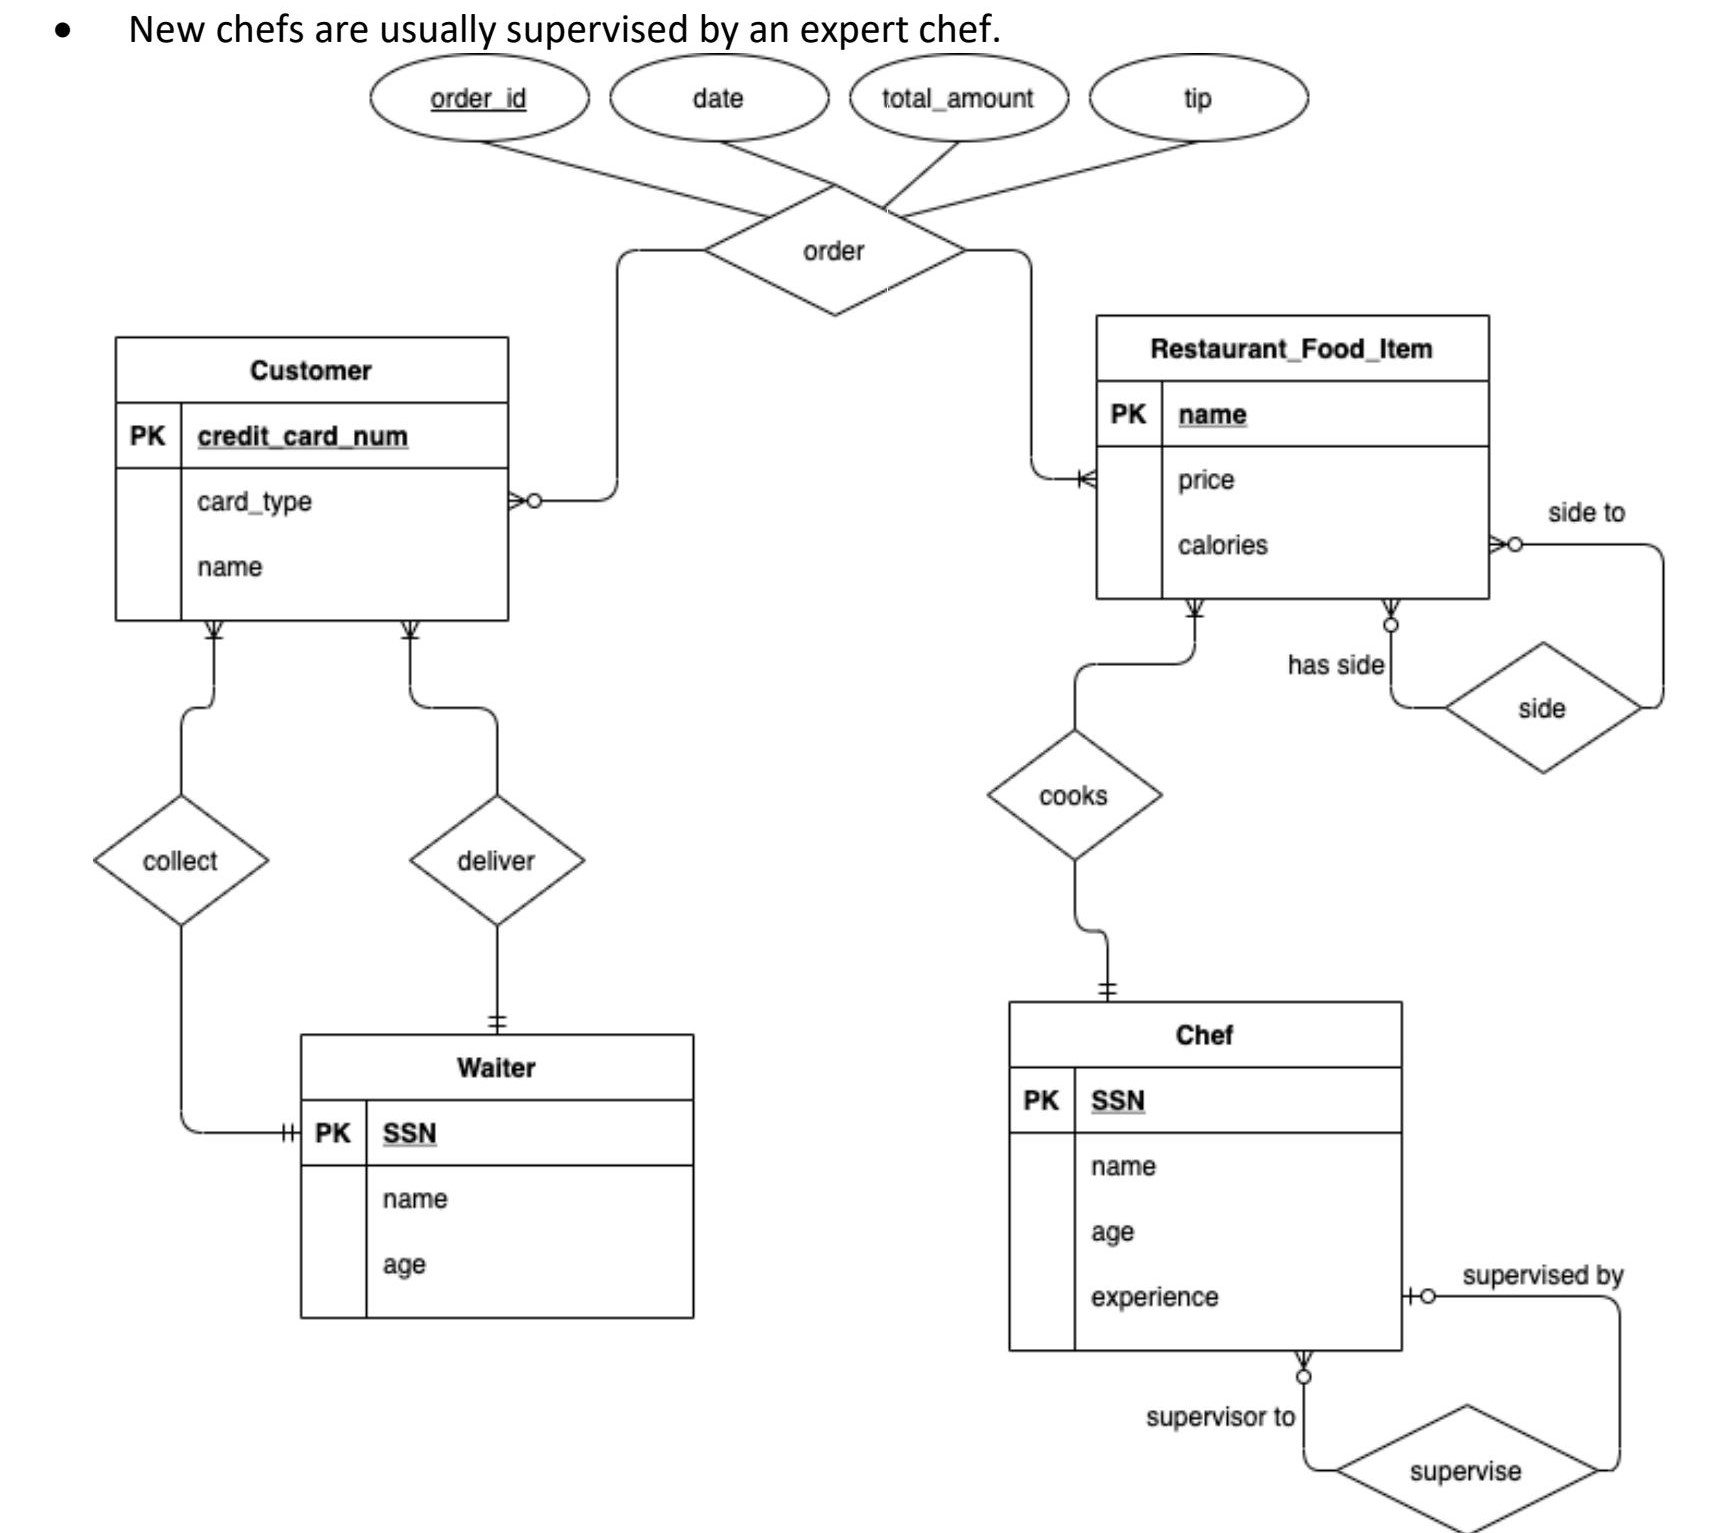Attribute: (346, 52, 599, 149), (1084, 44, 1320, 146), (611, 47, 837, 149), (851, 47, 1075, 145)
Entity: (996, 991, 1420, 1366), (1075, 297, 1507, 611), (101, 326, 525, 635), (287, 1028, 712, 1330)
Relationship: (1337, 1401, 1604, 1533), (709, 181, 964, 317), (1442, 635, 1642, 780), (979, 728, 1169, 860), (92, 795, 271, 929), (411, 792, 584, 923)
